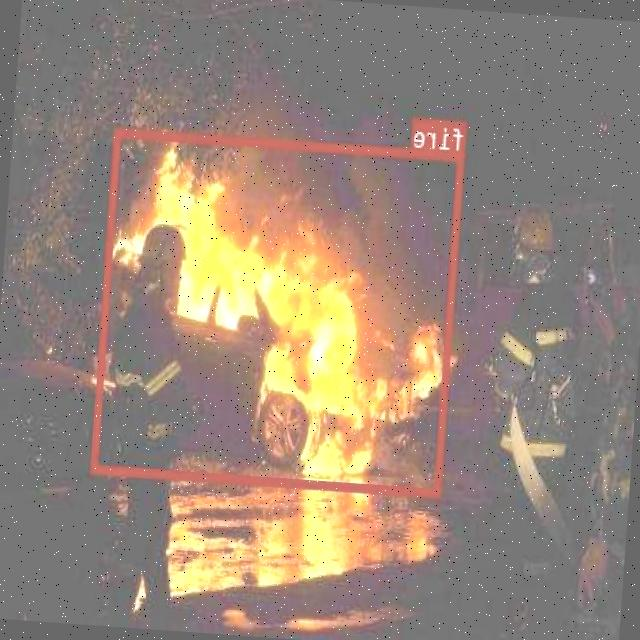fire: (92, 126, 464, 495)
